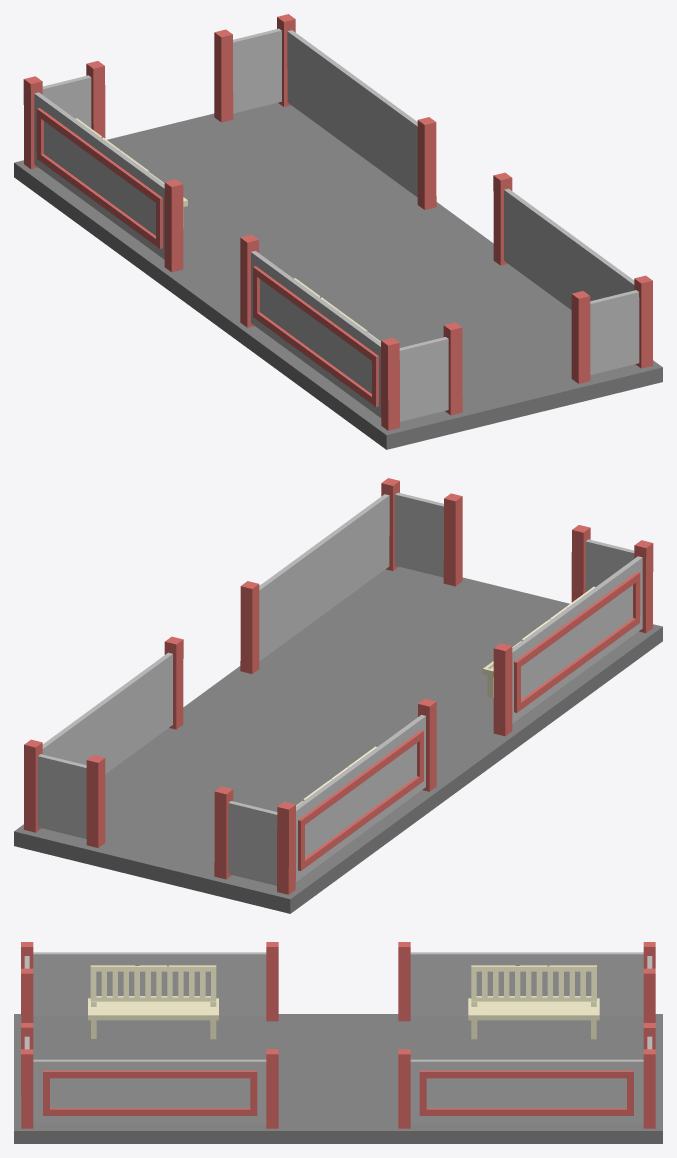
The model's file is coaster.glb.
The picture shows the model from 3 angles, top to bottom: view 1: azimuth 30°, elevation 25°; view 2: azimuth 150°, elevation 25°; view 3: azimuth 270°, elevation 25°; orthographic projection. The views are drawn at different scales.
Parts seen in each view (by area): view 1: Bank_0; view 2: Bank_0; view 3: Bank_0.
Boxes of the visible parts, left/top/right/bottom form: Bank_0: left=14, top=14, right=662, bottom=449; Bank_0: left=14, top=478, right=662, bottom=913; Bank_0: left=14, top=942, right=662, bottom=1143.
Size of the model in its own units: 5.73 by 1.99 by 13.36.
